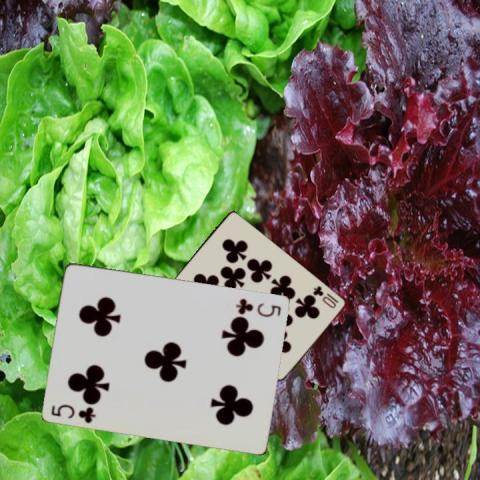10c: (310, 283, 340, 310)
5c: (49, 401, 97, 425), (233, 295, 283, 318)
